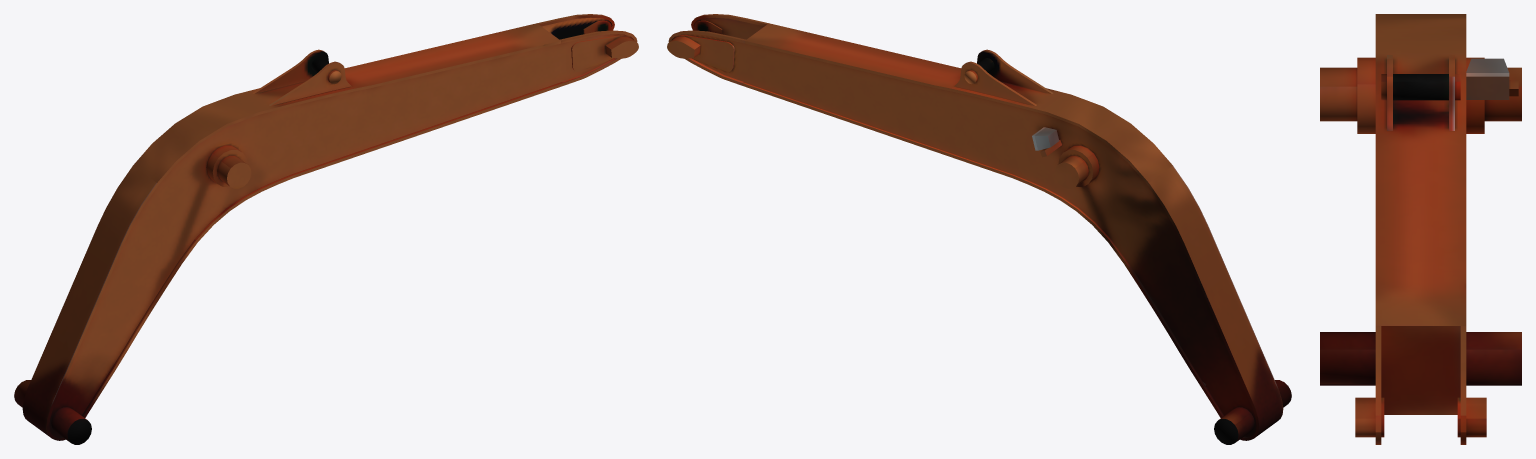
The model's file is zx120-boom.dae.
3 views of the same model, side by side, from view 1: azimuth 30°, elevation 25°; view 2: azimuth 150°, elevation 25°; view 3: azimuth 270°, elevation 25° (orthographic). The views are drawn at different scales.
Visible parts, largest first — view 1: boom, bd-bm-dm, bd-bm-D-Cyl-dm; view 2: boom, bd-bm-dm, bd-bm-D-Cyl-dm; view 3: boom, bd-bm-dm, bd-bm-D-Cyl-dm, bm-arm.
Part boxes in pixels (left/top/right/bottom): boom: left=22, top=14, right=638, bottom=440; bd-bm-dm: left=14, top=380, right=91, bottom=444; bd-bm-D-Cyl-dm: left=217, top=155, right=251, bottom=188; boom: left=667, top=14, right=1283, bottom=440; bd-bm-dm: left=1214, top=380, right=1291, bottom=444; bd-bm-D-Cyl-dm: left=1054, top=155, right=1088, bottom=188; boom: left=1355, top=14, right=1518, bottom=444; bd-bm-dm: left=1320, top=332, right=1521, bottom=385; bd-bm-D-Cyl-dm: left=1320, top=67, right=1521, bottom=121; bm-arm: left=1381, top=74, right=1460, bottom=100.
Bounding box in the file's own units: 4.46 × 0.6972 × 2.22.
1 material, 1 textured.
